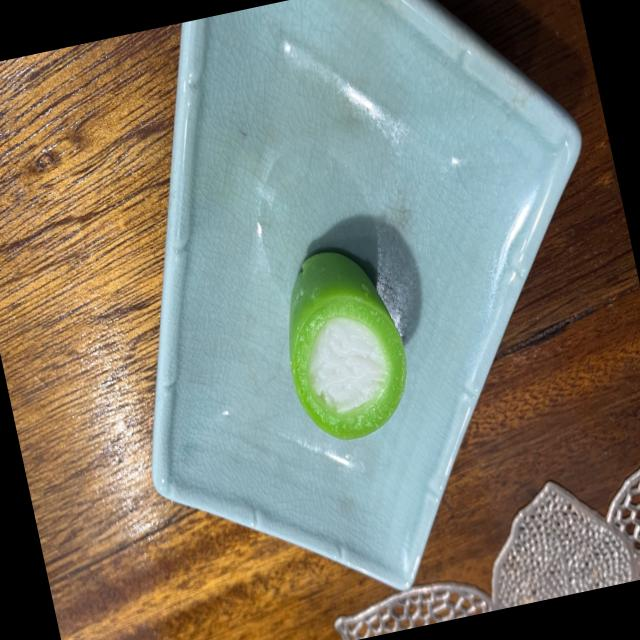nona-manis: (288, 251, 406, 439)
